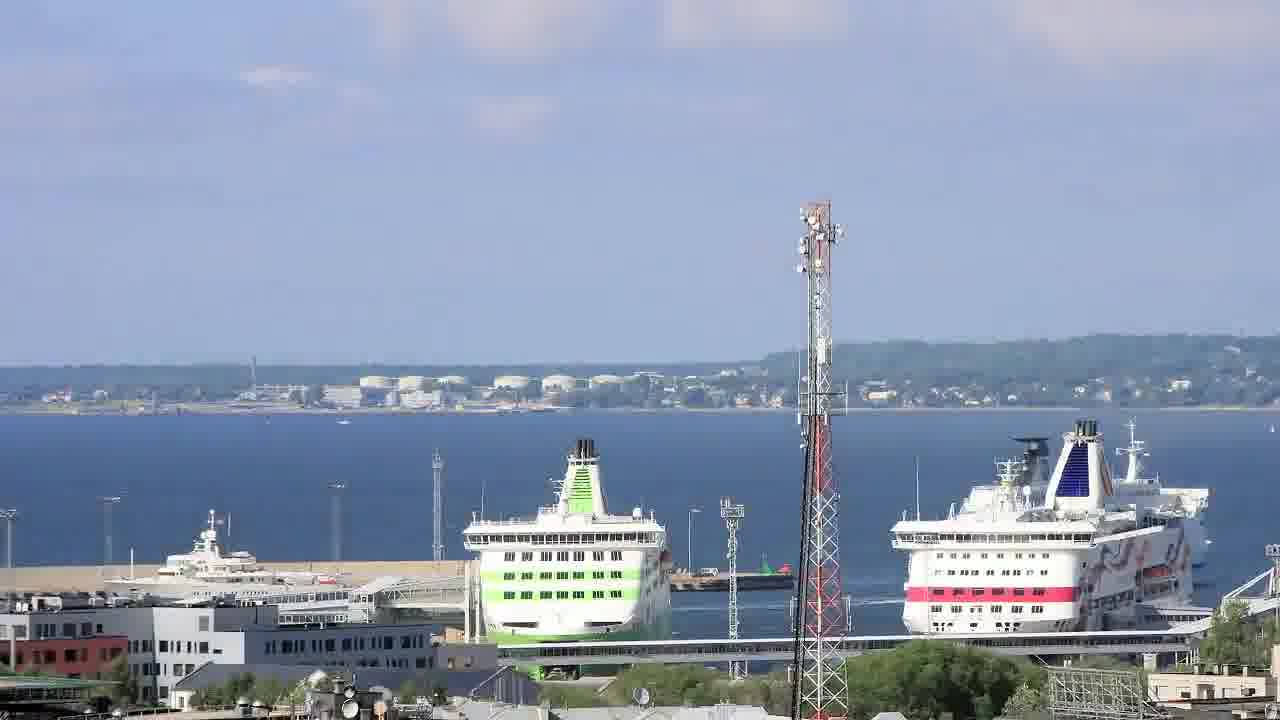type-3: (868, 415, 1225, 638), (436, 434, 694, 670), (87, 513, 371, 641)
